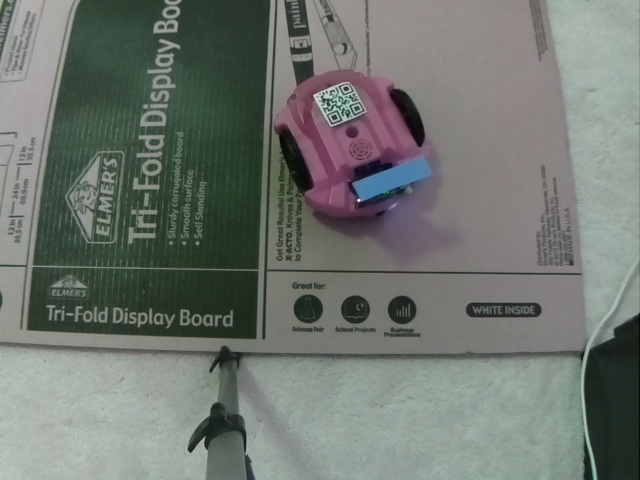board: (349, 150, 434, 211)
chassis: (270, 62, 440, 226)
